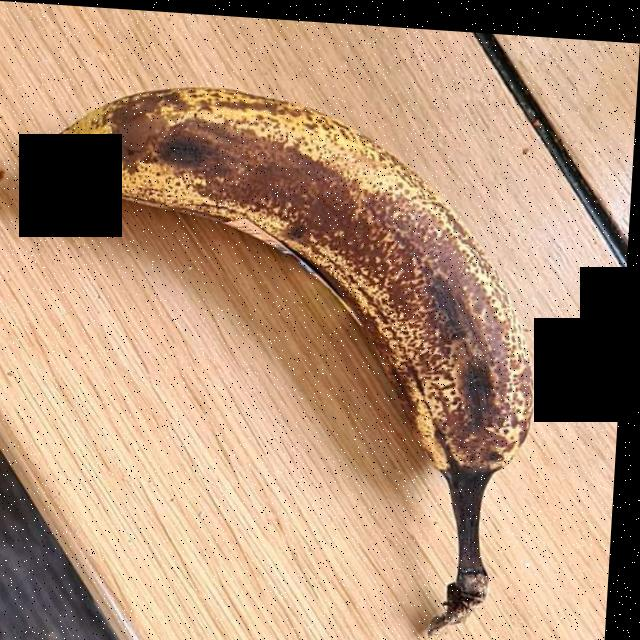banana: (59, 88, 527, 555)
